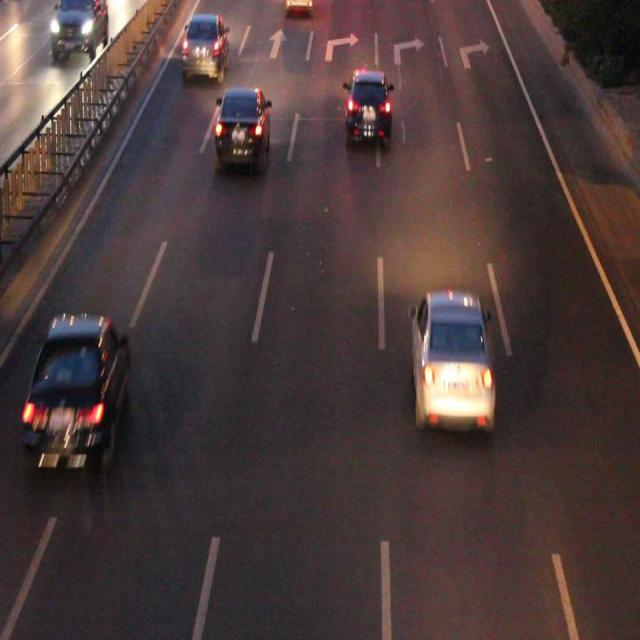car: (24, 318, 130, 466), (411, 293, 493, 427), (216, 88, 268, 161), (346, 70, 390, 143), (182, 15, 229, 77)
truck: (285, 1, 312, 13)
